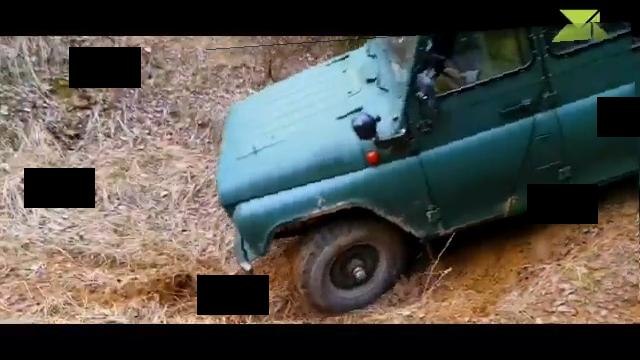MIL_HMMWV: (210, 27, 640, 317)
